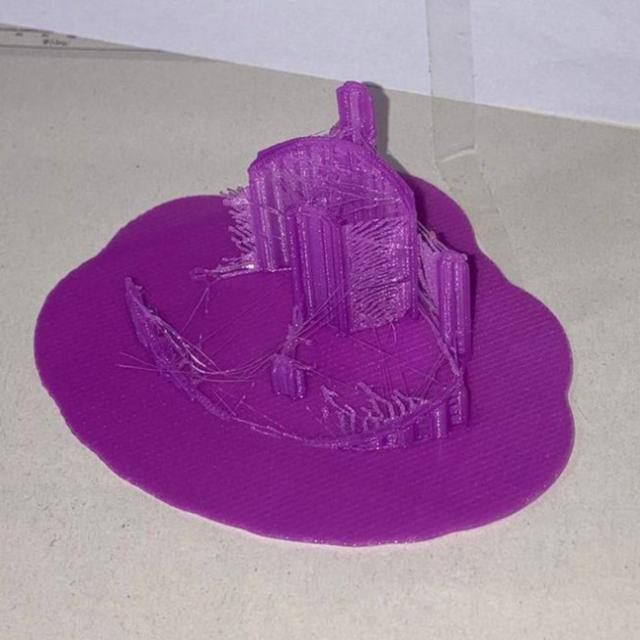Stringing: (341, 217, 420, 323), (328, 384, 414, 436)
